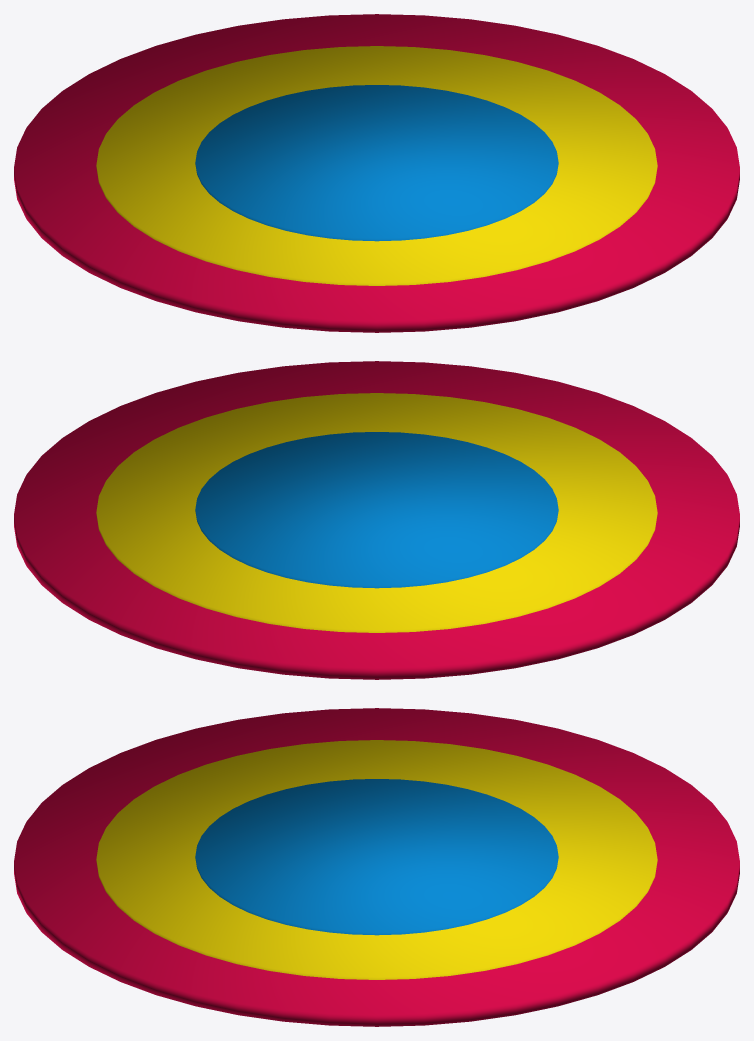
The model's file is rug_round.glb.
3 views of the same model, one above another, from view 1: azimuth 30°, elevation 25°; view 2: azimuth 150°, elevation 25°; view 3: azimuth 270°, elevation 25° (orthographic).
Parts seen in each view (by area): view 1: Cylinder, Cylinder.001, Cylinder.002; view 2: Cylinder, Cylinder.001, Cylinder.002; view 3: Cylinder, Cylinder.001, Cylinder.002.
Part boxes in pixels (x1,y1,x2,y2): Cylinder: (14, 14, 739, 332); Cylinder.001: (96, 46, 657, 285); Cylinder.002: (195, 85, 558, 241); Cylinder: (14, 361, 739, 679); Cylinder.001: (96, 393, 657, 632); Cylinder.002: (195, 432, 558, 588); Cylinder: (14, 708, 739, 1026); Cylinder.001: (96, 740, 657, 979); Cylinder.002: (195, 779, 558, 935).
Size of the model in its own units: 0.44 by 0.012 by 0.44.
